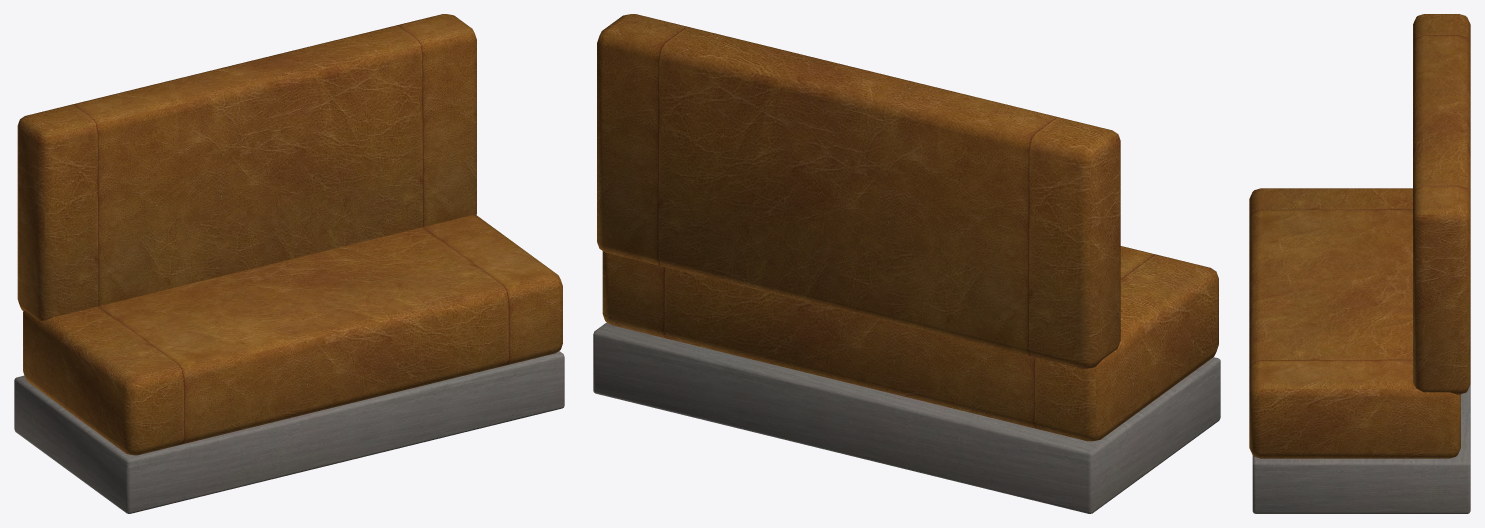
File: cafe-booth-a19289963b6a.glb
The picture shows the model from 3 angles, left to right: view 1: azimuth 30°, elevation 25°; view 2: azimuth 150°, elevation 25°; view 3: azimuth 270°, elevation 25°; orthographic projection. The views are drawn at different scales.
Visible parts, largest first — view 1: Mesh_Chair_Leather, Plinth; view 2: Mesh_Chair_Leather, Plinth; view 3: Mesh_Chair_Leather, Plinth.
Boxes of the visible parts, left/top/right/bottom form: Mesh_Chair_Leather: left=17, top=14, right=562, bottom=455; Plinth: left=14, top=351, right=564, bottom=513; Mesh_Chair_Leather: left=597, top=14, right=1218, bottom=441; Plinth: left=593, top=322, right=1220, bottom=513; Mesh_Chair_Leather: left=1249, top=14, right=1470, bottom=458; Plinth: left=1252, top=384, right=1470, bottom=513.
Bounding box in the file's own units: 1.5 × 1.04 × 0.69.
Materials: 2 (2 with a texture image).
